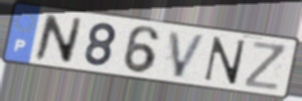6: (120, 25, 163, 76)
8: (83, 21, 118, 68)
N: (33, 13, 85, 67), (201, 35, 248, 86)
V: (167, 29, 209, 80)
Z: (243, 39, 288, 93)
